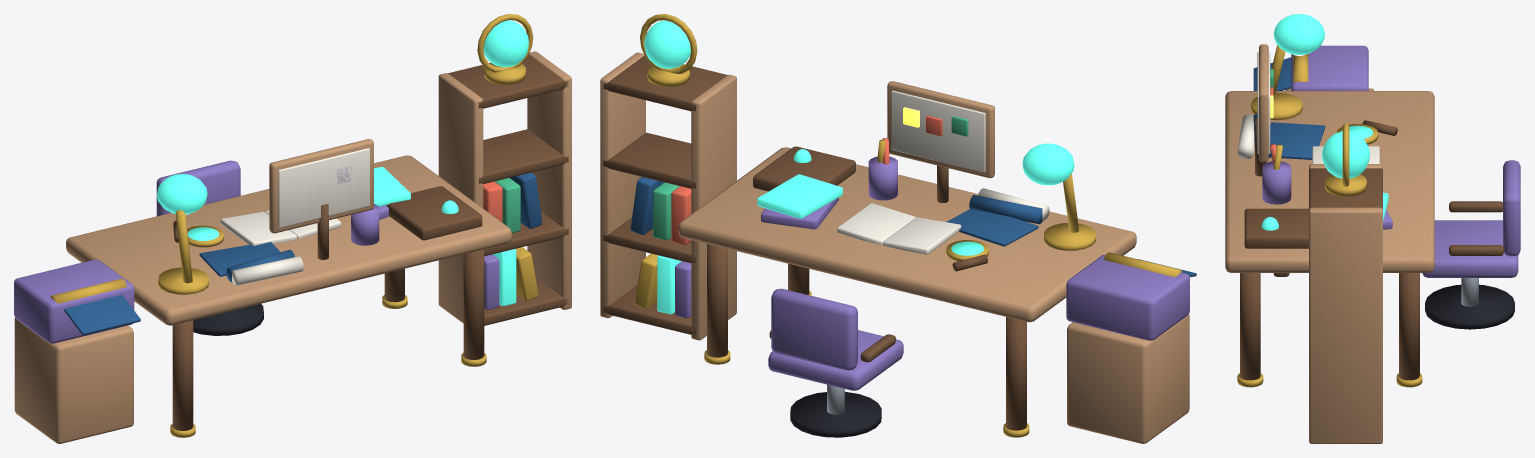
The model's file is Workstation_Research_Optimized.fbx.
3 renders of one model, left to right at view 1: azimuth 30°, elevation 25°; view 2: azimuth 150°, elevation 25°; view 3: azimuth 270°, elevation 25°, orthographic. The views are drawn at different scales.
Parts seen in each view (by area): view 1: Research_Static_WarmWood, Research_Static_DarkWood, Research_Static_Researcher_Lavender, Research_Static_Brass, Research_Static_Researcher_Teal, Research_WhiteboardSurface, Research_Static_PaperWarm, Research_Static_BlueprintBlue, Printer_OutputBlueprint, Research_Static_CharcoalVisor, Research_Static_Tester_Mint, Research_Static_Developer_Coral; view 2: Research_Static_WarmWood, Research_Static_Researcher_Lavender, Research_Static_DarkWood, Research_Static_Researcher_Teal, Research_Static_Brass, Research_WhiteboardSurface, Research_Static_PaperWarm, Research_Static_BlueprintBlue, Research_Static_CharcoalVisor, Research_Static_Tester_Mint, Research_Static_Developer_Coral; view 3: Research_Static_WarmWood, Research_Static_DarkWood, Research_Static_Researcher_Lavender, Research_Static_Brass, Research_Static_Researcher_Teal, Research_Static_CharcoalVisor, Research_Static_BlueprintBlue, Research_Static_PaperWarm, Printer_OutputBlueprint, Research_Static_BrushedMetal, Research_WhiteboardSurface.
Part boxes in pixels (x1=…): Research_Static_WarmWood: x1=14, y1=51, x2=571, y2=443; Research_Static_DarkWood: x1=172, y1=54, x2=568, y2=430; Research_Static_Researcher_Lavender: x1=14, y1=160, x2=499, y2=343; Research_Static_Brass: x1=50, y1=14, x2=538, y2=437; Research_Static_Researcher_Teal: x1=157, y1=20, x2=528, y2=306; Research_WhiteboardSurface: x1=278, y1=148, x2=369, y2=227; Research_Static_PaperWarm: x1=220, y1=210, x2=341, y2=285; Research_Static_BlueprintBlue: x1=199, y1=172, x2=542, y2=282; Printer_OutputBlueprint: x1=64, y1=294, x2=140, y2=335; Research_Static_CharcoalVisor: x1=193, y1=304, x2=263, y2=335; Research_Static_Tester_Mint: x1=494, y1=178, x2=520, y2=232; Research_Static_Developer_Coral: x1=483, y1=181, x2=502, y2=222; Research_Static_WarmWood: x1=600, y1=52, x2=1189, y2=443; Research_Static_Researcher_Lavender: x1=675, y1=156, x2=1189, y2=390; Research_Static_DarkWood: x1=603, y1=55, x2=1026, y2=430; Research_Static_Researcher_Teal: x1=644, y1=20, x2=1074, y2=314; Research_Static_Brass: x1=634, y1=14, x2=1182, y2=437; Research_WhiteboardSurface: x1=891, y1=90, x2=985, y2=172; Research_Static_PaperWarm: x1=837, y1=188, x2=1049, y2=254; Research_Static_BlueprintBlue: x1=630, y1=177, x2=1042, y2=246; Research_Static_CharcoalVisor: x1=790, y1=391, x2=881, y2=437; Research_Static_Tester_Mint: x1=653, y1=116, x2=968, y2=240; Research_Static_Developer_Coral: x1=671, y1=115, x2=942, y2=244; Research_Static_WarmWood: x1=1225, y1=44, x2=1434, y2=443; Research_Static_DarkWood: x1=1240, y1=117, x2=1503, y2=380; Research_Static_Researcher_Lavender: x1=1262, y1=45, x2=1520, y2=277; Research_Static_Brass: x1=1237, y1=45, x2=1422, y2=387; Research_Static_Researcher_Teal: x1=1273, y1=14, x2=1388, y2=220; Research_Static_CharcoalVisor: x1=1425, y1=284, x2=1514, y2=329; Research_Static_BlueprintBlue: x1=1253, y1=114, x2=1325, y2=159; Research_Static_PaperWarm: x1=1238, y1=114, x2=1379, y2=163; Printer_OutputBlueprint: x1=1253, y1=57, x2=1291, y2=90; Research_Static_BrushedMetal: x1=1461, y1=278, x2=1478, y2=306; Research_WhiteboardSurface: x1=1257, y1=52, x2=1270, y2=154.
Bounding box in the file's own units: 38.35 × 20.18 × 18.35.
